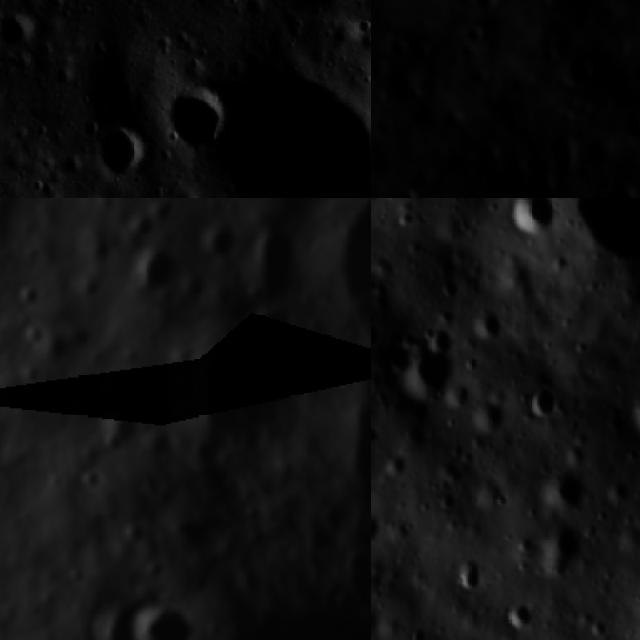crater: (223, 64, 371, 198), (552, 198, 640, 322), (383, 331, 462, 414), (542, 519, 614, 572), (170, 76, 218, 154), (499, 198, 568, 250), (99, 119, 150, 184), (514, 374, 566, 431), (535, 460, 589, 514), (132, 601, 200, 640), (90, 600, 145, 640), (465, 304, 509, 349), (543, 133, 587, 177), (500, 598, 544, 639), (0, 7, 40, 50), (195, 218, 230, 263), (449, 556, 484, 598), (618, 379, 640, 445), (122, 261, 163, 296), (517, 167, 563, 198), (136, 547, 166, 587), (118, 516, 146, 554), (74, 462, 102, 492), (602, 178, 640, 198), (115, 219, 147, 242), (148, 198, 179, 220), (186, 562, 206, 592), (18, 326, 38, 352), (20, 286, 41, 308), (21, 362, 44, 381), (356, 17, 371, 44), (371, 198, 383, 218)
